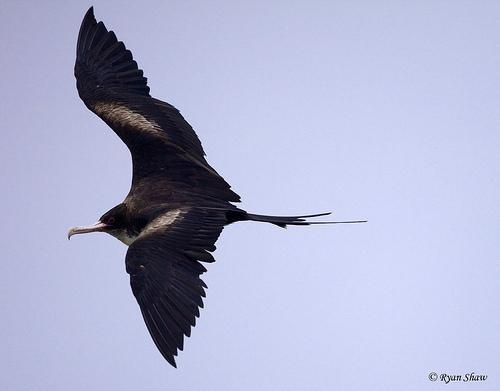bird: (65, 1, 368, 371)
